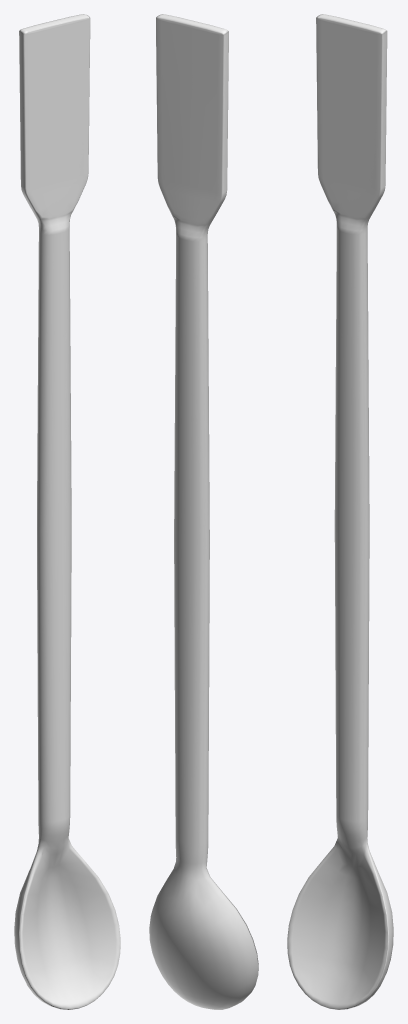
Rendered from Spatula_Spoon.fbx.
The picture shows the model from 3 angles, left to right: view 1: azimuth 30°, elevation 25°; view 2: azimuth 150°, elevation 25°; view 3: azimuth 330°, elevation 25°; orthographic projection. The views are drawn at different scales.
Visible parts, largest first — view 1: Spatula_Spoon_LOD0; view 2: Spatula_Spoon_LOD0; view 3: Spatula_Spoon_LOD0.
Part boxes in pixels (x1,y1,x2,y2): Spatula_Spoon_LOD0: (14,14,120,1009); Spatula_Spoon_LOD0: (149,14,258,1009); Spatula_Spoon_LOD0: (287,14,393,1009).
Size of what is drawn, in the model's own units: 2.06 by 19.24 by 1.25.
